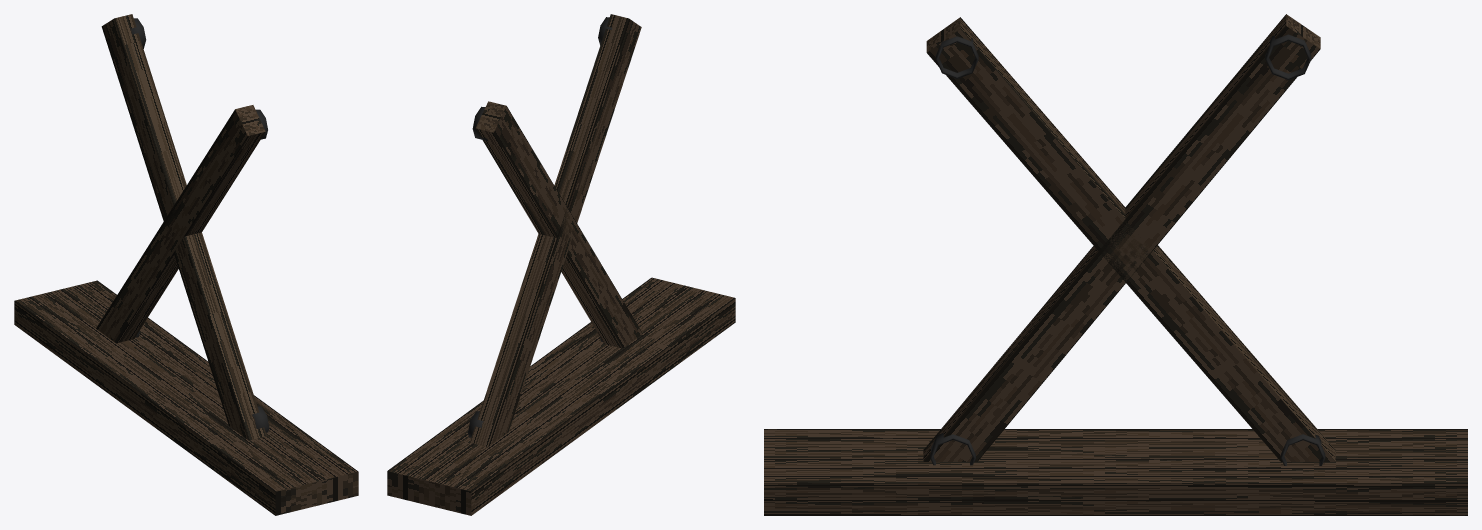
File: cruz.glb
The picture shows the model from 3 angles, left to right: view 1: azimuth 30°, elevation 25°; view 2: azimuth 150°, elevation 25°; view 3: azimuth 270°, elevation 25°; orthographic projection. The views are drawn at different scales.
Visible parts, largest first — view 1: mesatortura2-col; view 2: mesatortura2-col; view 3: mesatortura2-col.
Boxes of the visible parts, left/top/right/bottom form: mesatortura2-col: left=14, top=14, right=358, bottom=515; mesatortura2-col: left=387, top=14, right=735, bottom=515; mesatortura2-col: left=764, top=14, right=1467, bottom=515.
Size of the model in its own units: 0.55 by 2.2 by 3.
3 materials, 2 textured.
